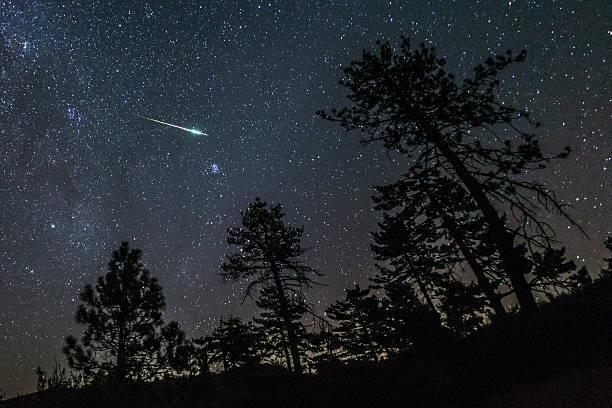meteorite: (125, 106, 223, 142)
